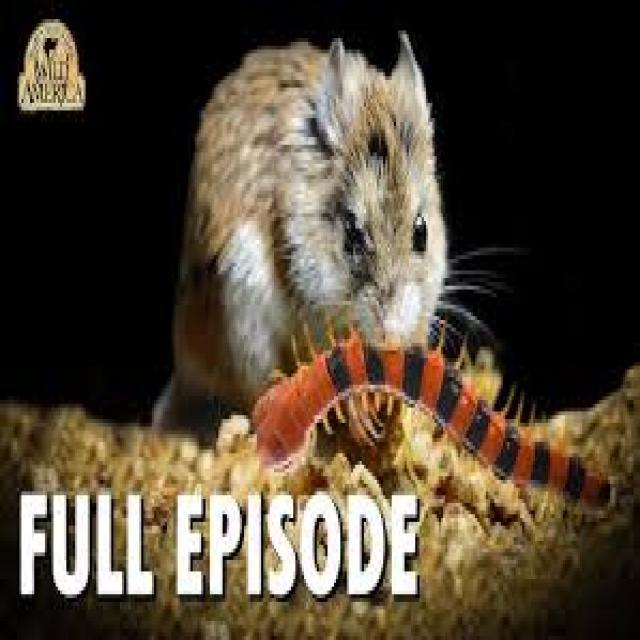Rat: (146, 21, 475, 348)
